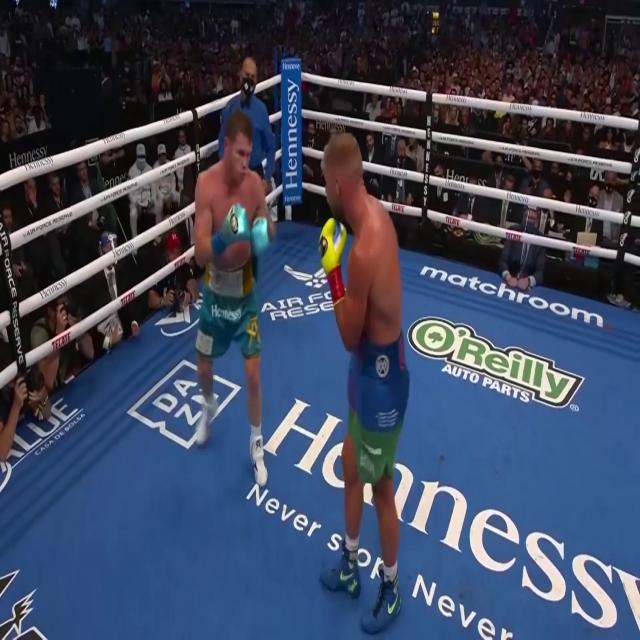boxer_1: (322, 133, 407, 381)
boxer_2: (209, 116, 266, 231), (208, 246, 257, 297)
gloves_1: (319, 217, 347, 303)
gloves_2: (211, 202, 270, 256)
